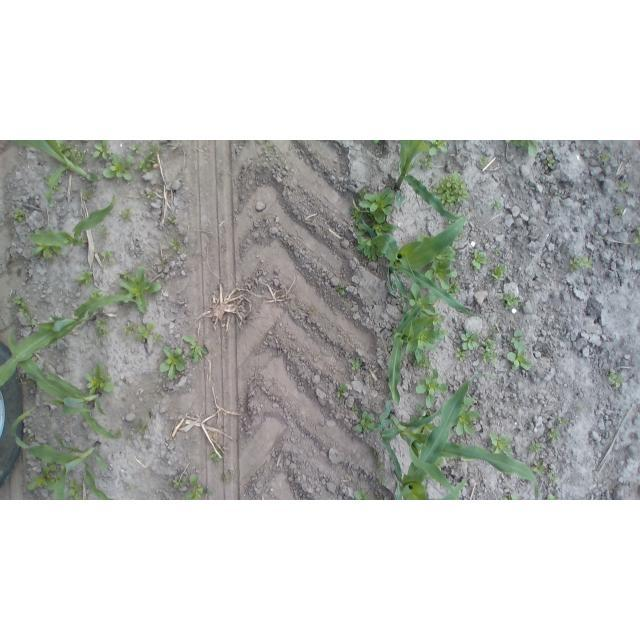Maize: (383, 372, 504, 500), (356, 200, 482, 318), (0, 295, 146, 390), (7, 329, 124, 442), (11, 405, 122, 500), (399, 374, 477, 500), (27, 191, 117, 262), (10, 140, 102, 208), (389, 140, 463, 222), (388, 300, 432, 409), (441, 473, 472, 500)
Weeds: (115, 265, 162, 312), (354, 223, 399, 264), (432, 170, 469, 209), (358, 185, 395, 223), (414, 367, 447, 408), (413, 327, 449, 361), (27, 226, 61, 260), (83, 360, 114, 396), (506, 327, 531, 371), (408, 283, 438, 318), (426, 261, 458, 292), (103, 153, 135, 184), (159, 347, 186, 382), (458, 396, 479, 436), (184, 333, 211, 363), (24, 466, 52, 494), (185, 473, 213, 500), (488, 430, 512, 454), (354, 411, 377, 435), (469, 247, 490, 272), (12, 296, 33, 319), (513, 140, 543, 156), (567, 255, 593, 273), (138, 153, 160, 174), (458, 329, 478, 352), (500, 291, 523, 311), (480, 337, 497, 363), (91, 140, 113, 160), (132, 417, 153, 436), (132, 323, 154, 341), (75, 268, 94, 288), (427, 141, 449, 158), (55, 140, 73, 158), (606, 371, 625, 388), (93, 317, 109, 337), (67, 479, 82, 500), (72, 148, 88, 166), (410, 358, 432, 371), (492, 264, 508, 281), (44, 174, 61, 190), (532, 459, 546, 478), (415, 155, 431, 171), (11, 205, 27, 221), (354, 488, 373, 501), (209, 448, 223, 464), (337, 381, 349, 399), (122, 321, 137, 335), (334, 282, 348, 297), (49, 464, 60, 483), (548, 428, 560, 445), (145, 143, 160, 156), (489, 198, 503, 211), (171, 478, 185, 491), (350, 357, 363, 371), (454, 347, 466, 362), (619, 178, 630, 194), (431, 312, 444, 325), (98, 227, 111, 240), (120, 207, 132, 221), (169, 236, 181, 250), (528, 440, 542, 452), (90, 287, 103, 299), (152, 331, 164, 343), (501, 492, 519, 500), (130, 143, 143, 154), (601, 150, 612, 163), (547, 152, 556, 167), (478, 155, 489, 166), (377, 474, 387, 486), (82, 187, 92, 199), (102, 250, 115, 259), (634, 225, 640, 244), (616, 201, 624, 215), (350, 207, 360, 218), (264, 140, 275, 150), (121, 483, 131, 494), (121, 269, 131, 279), (168, 214, 177, 225), (545, 493, 559, 500), (351, 404, 359, 416), (376, 459, 384, 470), (115, 429, 124, 438), (549, 474, 558, 483), (372, 448, 379, 459), (557, 418, 568, 425), (146, 190, 155, 198), (554, 190, 561, 200), (573, 402, 581, 410), (160, 257, 167, 266), (495, 246, 502, 254), (26, 435, 33, 442), (221, 243, 227, 251), (392, 281, 397, 289), (373, 140, 381, 144), (549, 469, 554, 474), (505, 140, 511, 144)
